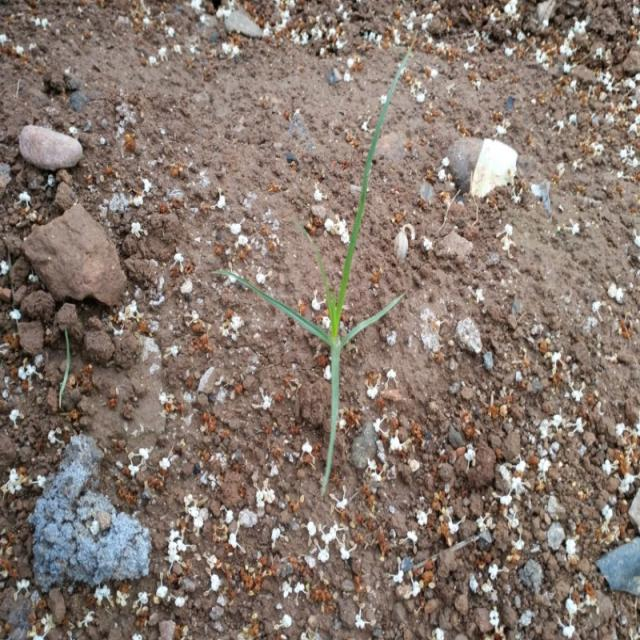sedge: (233, 103, 477, 495)
